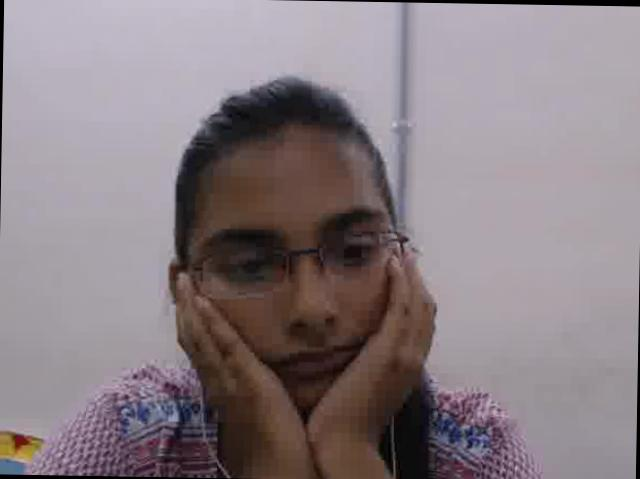bosan: (188, 153, 398, 418)
